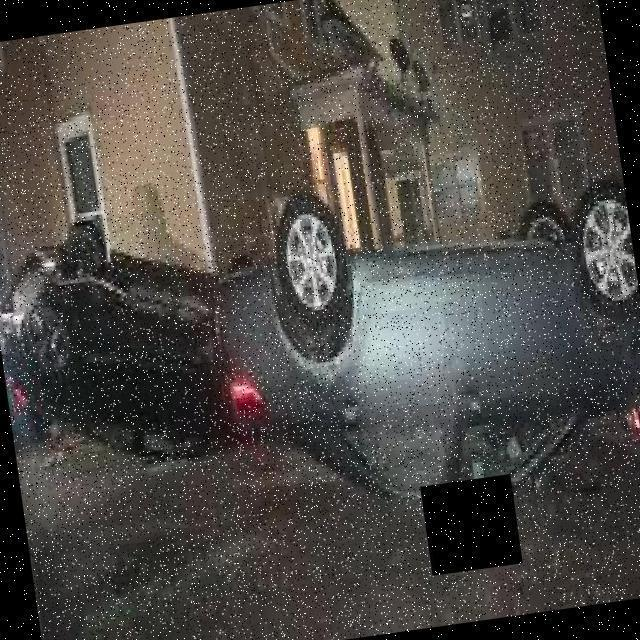accident: (180, 134, 640, 530), (0, 191, 245, 485)
